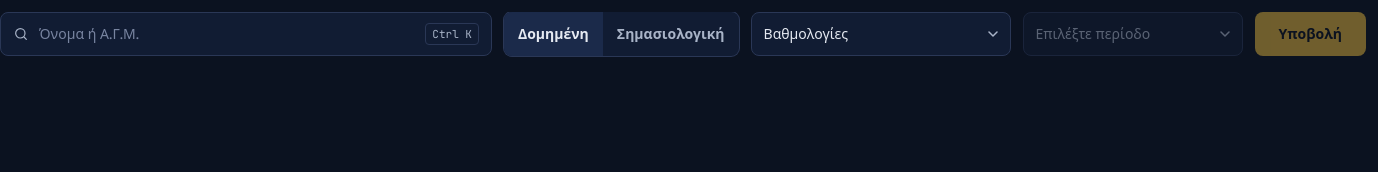
Test: QueryForm › filters the person search by Α.Γ.Μ. (Latin M too) or name without accents, and Enter picks without submitting
Type "m-00002" into the dropdown named "Άτομο" at (227, 34), box [39, 13, 415, 55]
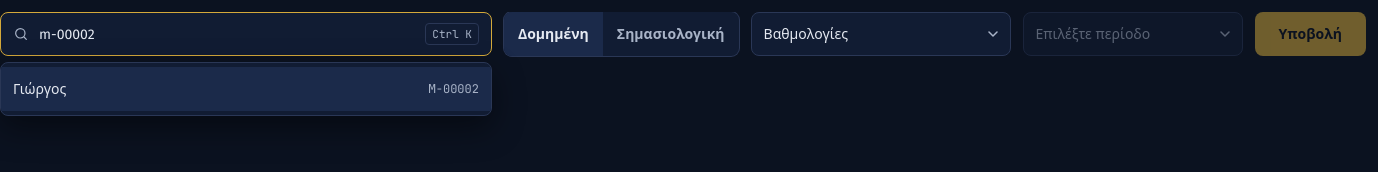
Replace the text in the dropdown named "Άτομο" with "αννα" at (227, 34), box [39, 13, 415, 55]
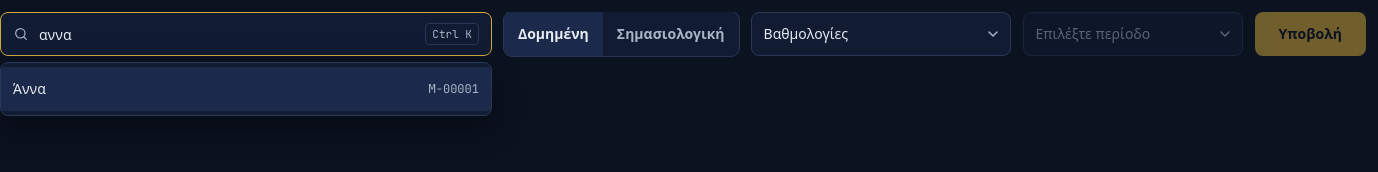
Press Enter
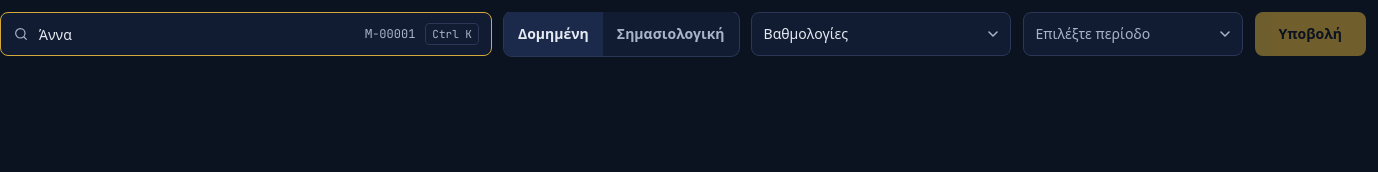
Check: the dropdown named "Άτομο" holds "Άννα", box [39, 13, 355, 55]
